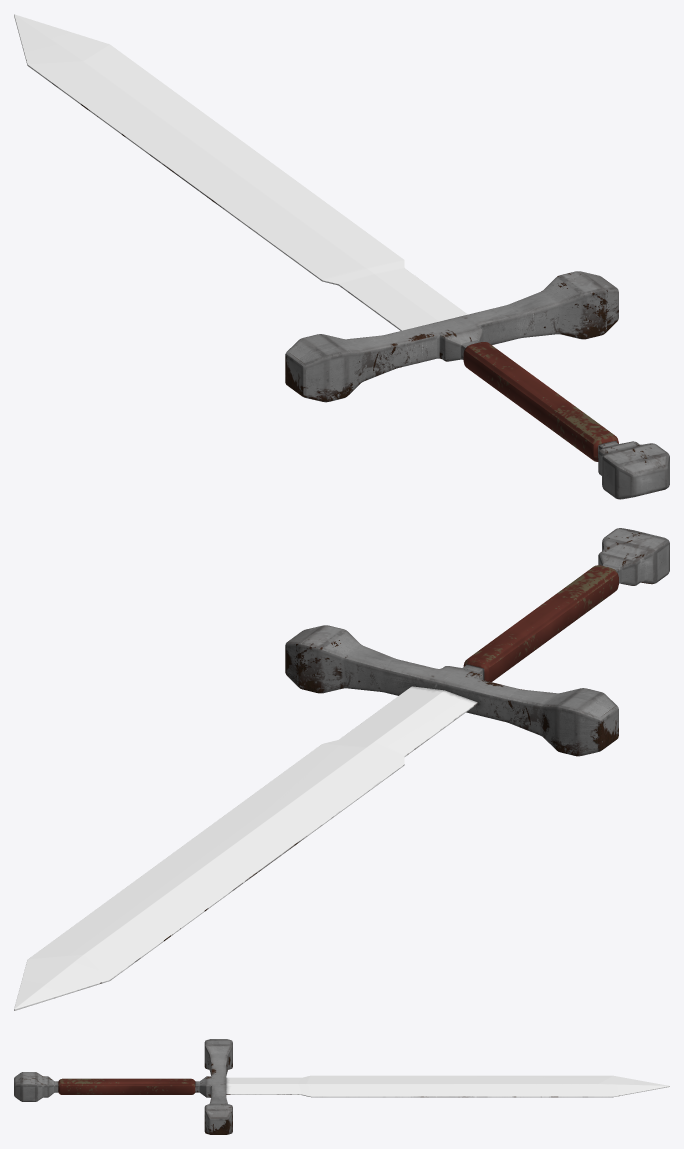
Rendered from sword.glb.
3 views of the same model, one above another, from view 1: azimuth 30°, elevation 25°; view 2: azimuth 150°, elevation 25°; view 3: azimuth 270°, elevation 25° (orthographic). The views are drawn at different scales.
Visible parts, largest first — view 1: pCube4; view 2: pCube4; view 3: pCube4.
Boxes of the visible parts, x1,y1,x2,y2 form: pCube4: [14, 14, 669, 499]; pCube4: [14, 528, 669, 1010]; pCube4: [14, 1039, 669, 1134].
Size of the model in its own units: 1 by 0.1406 by 3.48.
1 material, 1 textured.
